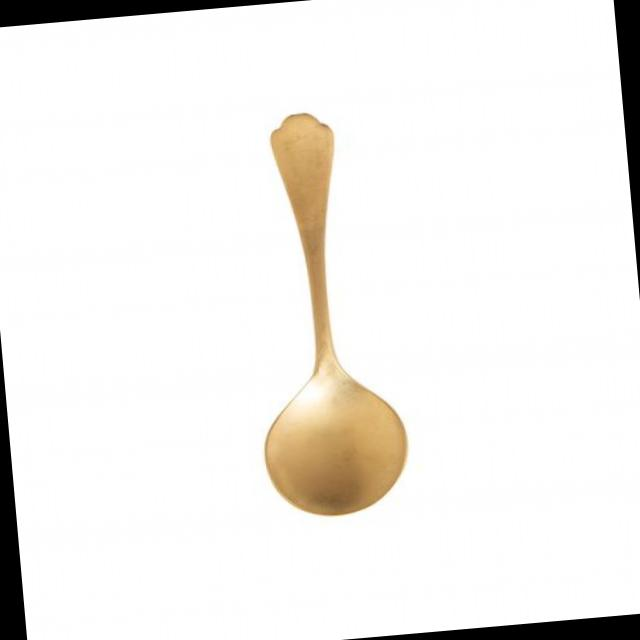spoon: (230, 92, 422, 530)
